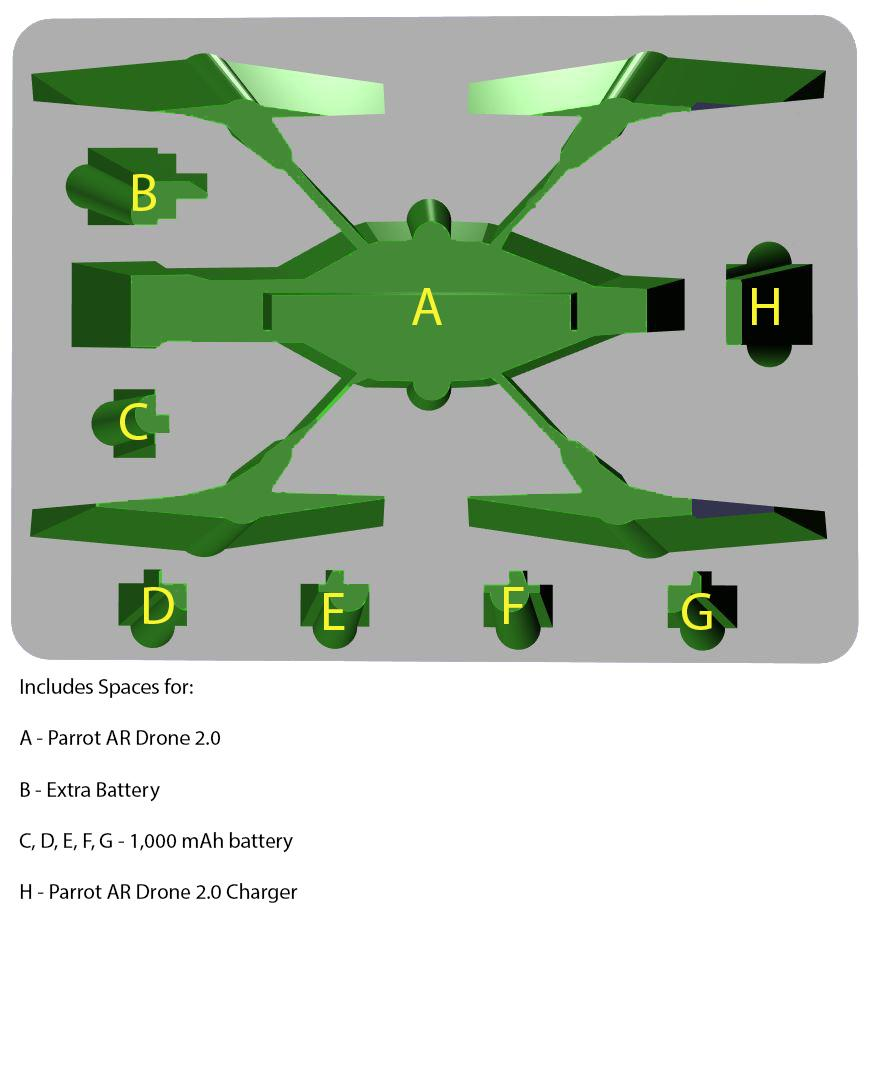drone: (15, 43, 865, 574)
